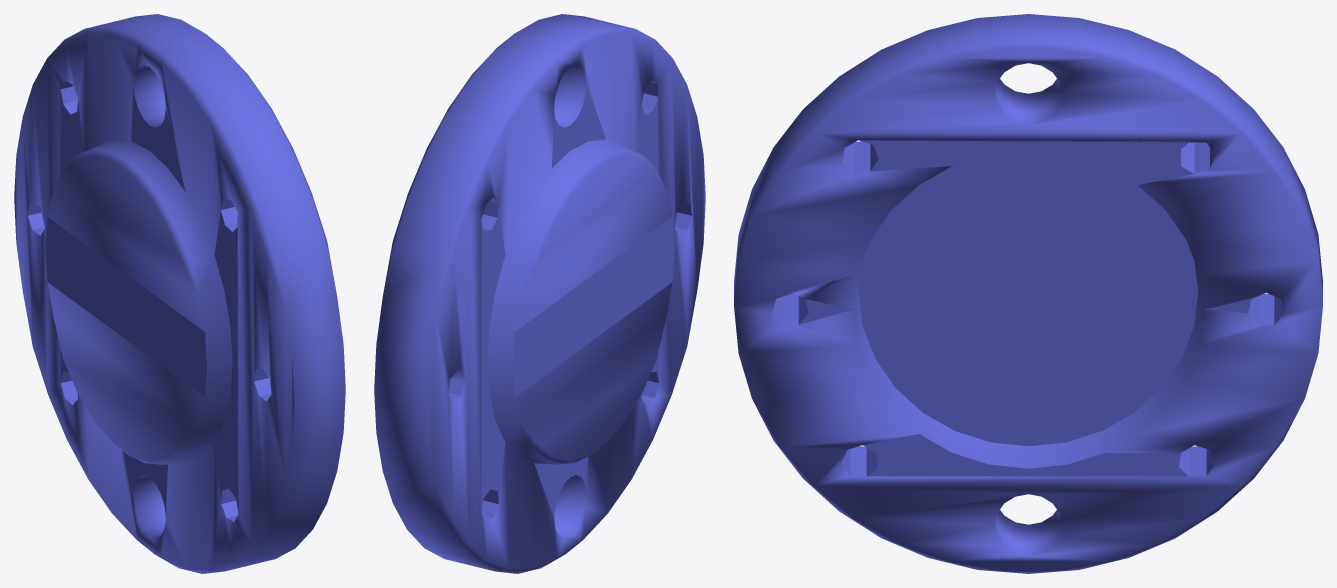
3 renders of one model, left to right at view 1: azimuth 30°, elevation 25°; view 2: azimuth 150°, elevation 25°; view 3: azimuth 270°, elevation 25°, orthographic. The views are drawn at different scales.
Parts seen in each view (by area): view 1: gp4_link_6_t; view 2: gp4_link_6_t; view 3: gp4_link_6_t.
Part boxes in pixels (left/top/right/bottom): gp4_link_6_t: left=14, top=14, right=345, bottom=573; gp4_link_6_t: left=374, top=14, right=705, bottom=573; gp4_link_6_t: left=734, top=14, right=1322, bottom=573.
Bounding box in the file's own units: 0.0095 × 0.052 × 0.052.
